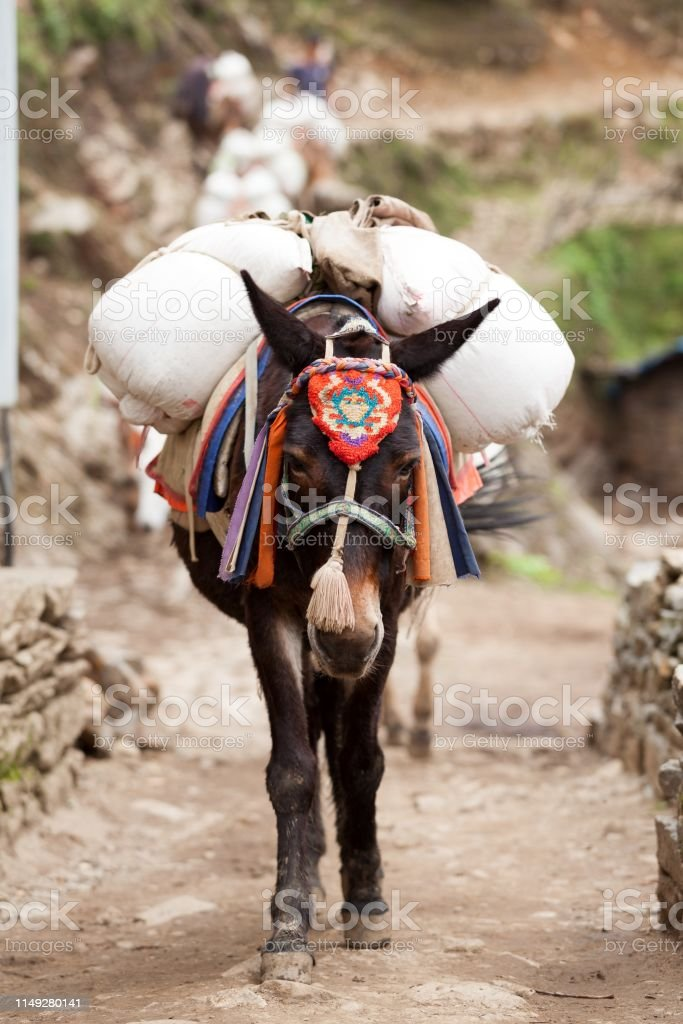equine: (114, 226, 501, 980)
